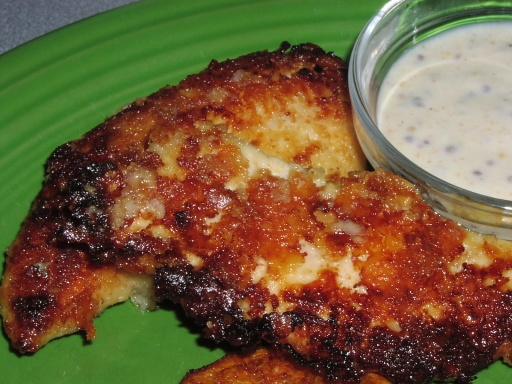background: (0, 25, 410, 230), (110, 13, 409, 121)
